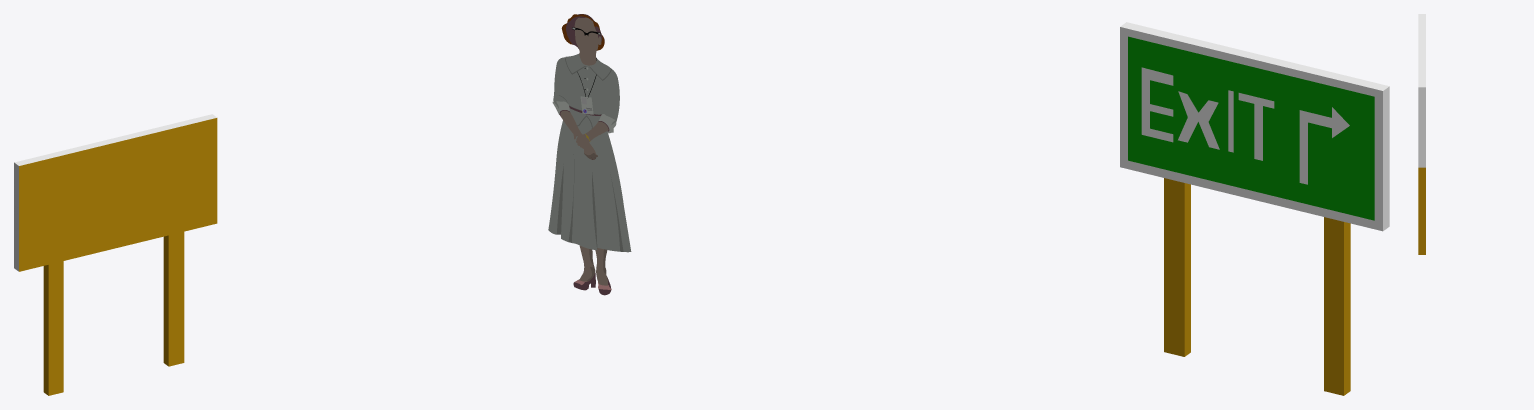
File: Exit sign.glb
The picture shows the model from 3 angles, left to right: view 1: azimuth 30°, elevation 25°; view 2: azimuth 150°, elevation 25°; view 3: azimuth 270°, elevation 25°; orthographic projection. The views are drawn at different scales.
Visible parts, largest first — view 1: Model; view 2: Model, Katherine_; view 3: Model.
Boxes of the visible parts, <box> form: Model: <box>14,114,217,395</box>; Model: <box>1120,22,1389,395</box>; Katherine_: <box>548,14,631,295</box>; Model: <box>1418,14,1425,254</box>.
Size of the model in its own units: 186 by 74.31 by 37.95.
